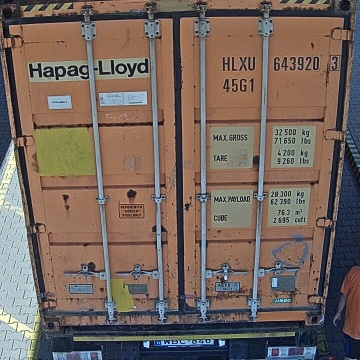serial_id: (222, 55, 340, 70)
